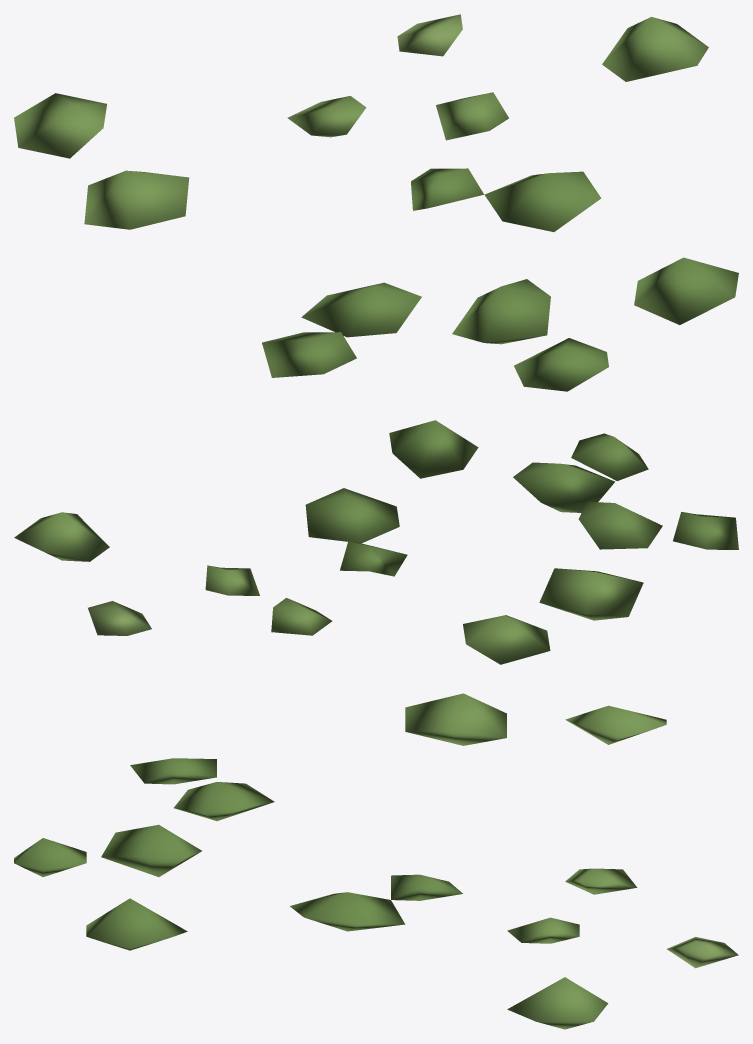
File: canopy-2--1--14.glb
The picture shows the model from 3 angles, top to bottom: view 1: azimuth 30°, elevation 25°; view 2: azimuth 150°, elevation 25°; view 3: azimuth 270°, elevation 25°; orthographic projection. The views are drawn at different scales.
Size of the model in its own units: 120 by 17.5 by 125.
1 material, 1 textured.
